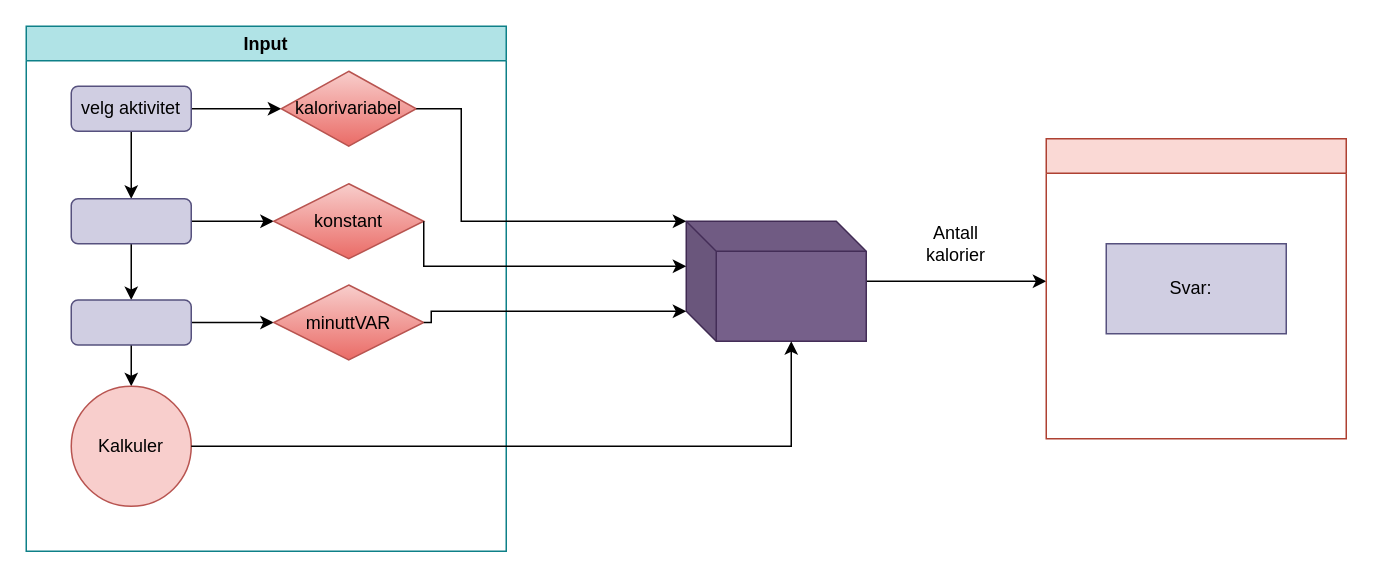
Some shapes in this 1373 by 578 pixel diagram are drawn without their labels. Here are the shapes that lost their labels. From the top down, the box of each, then its label:
(70, 197, 191, 244): velg intensitet
(685, 220, 866, 341): Kalkulator
(1045, 137, 1346, 439): Output
(70, 298, 191, 345): velg varighet
